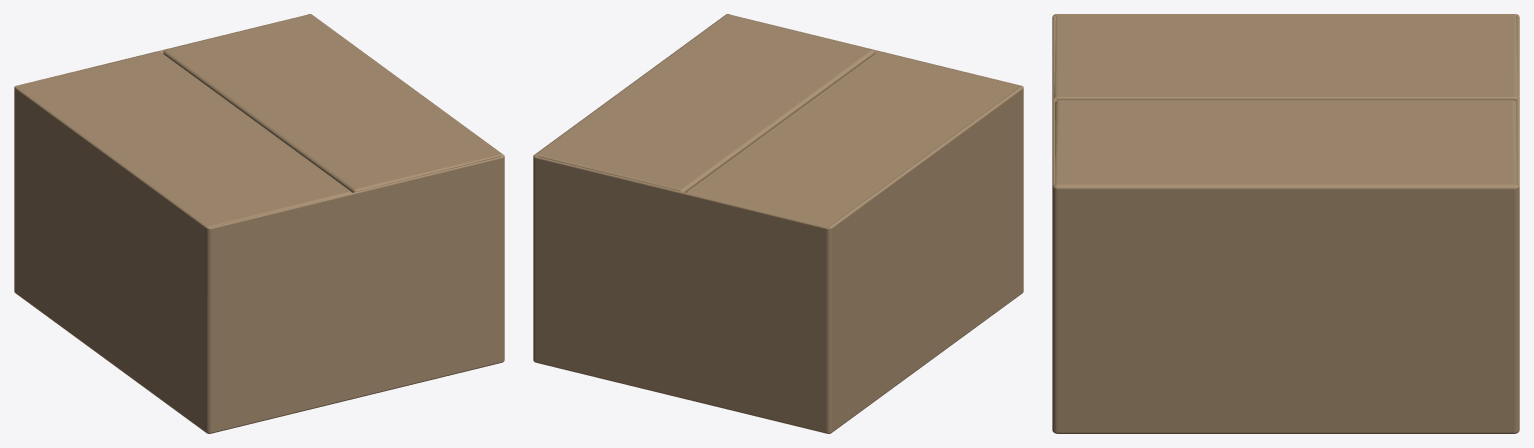
File: MediumBox.glb
3 renders of one model, left to right at view 1: azimuth 30°, elevation 25°; view 2: azimuth 150°, elevation 25°; view 3: azimuth 270°, elevation 25°, orthographic. The views are drawn at different scales.
Visible parts, largest first — view 1: Cube; view 2: Cube; view 3: Cube.
Boxes of the visible parts, box(x1,y1,x2,y2) form: Cube: box(14, 14, 504, 433); Cube: box(533, 14, 1023, 433); Cube: box(1052, 14, 1519, 433).
Size of the model in its own units: 0.381 by 0.254 by 0.4318.
